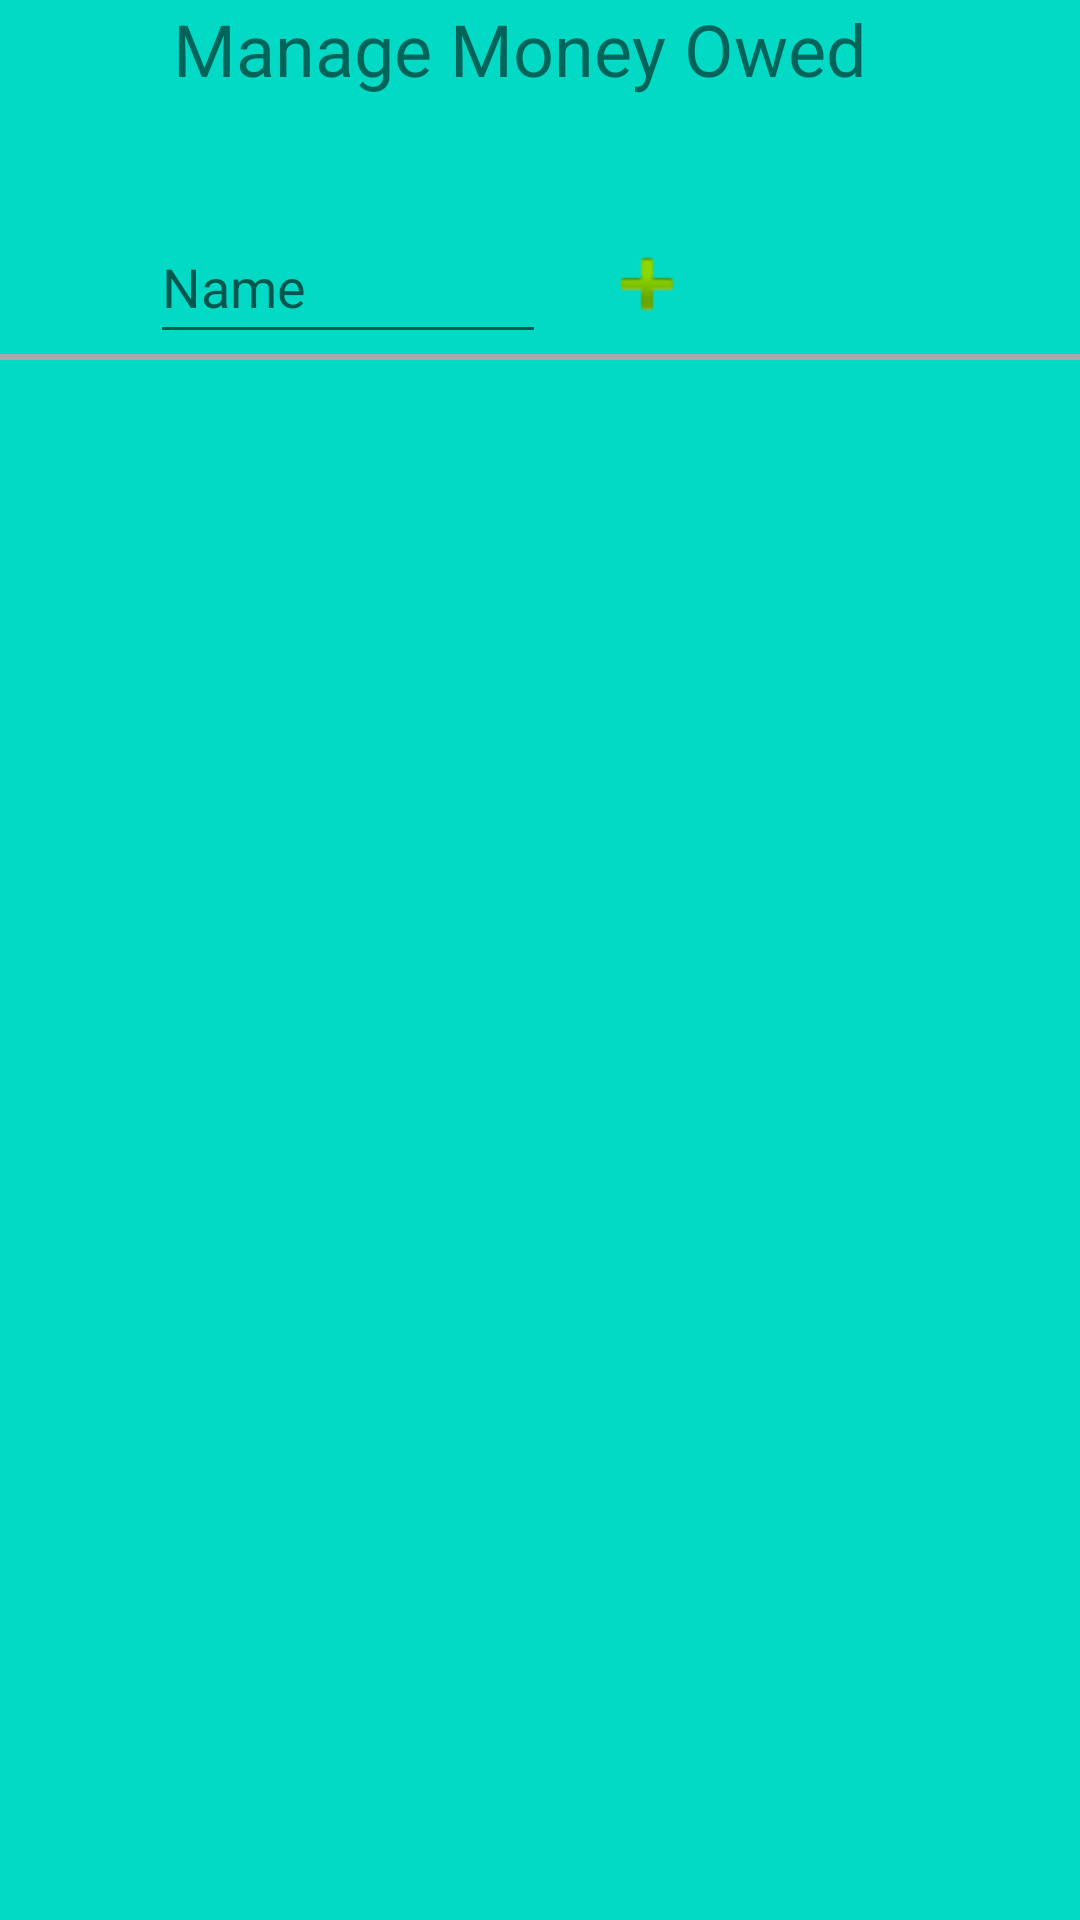

Screen size 1080px×1920px. Icon name, then its center in pixels as (x=x, y=y):
add: (x=647, y=284)
